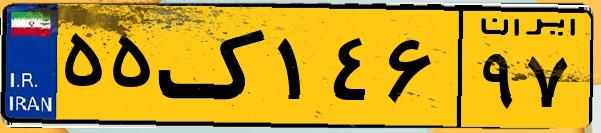1: (270, 28, 330, 110)
4: (330, 28, 385, 110)
5: (57, 26, 110, 100), (110, 28, 158, 98)
6: (385, 28, 445, 110)
7: (525, 38, 570, 115)
9: (475, 38, 525, 113)
ک: (158, 12, 270, 120)
